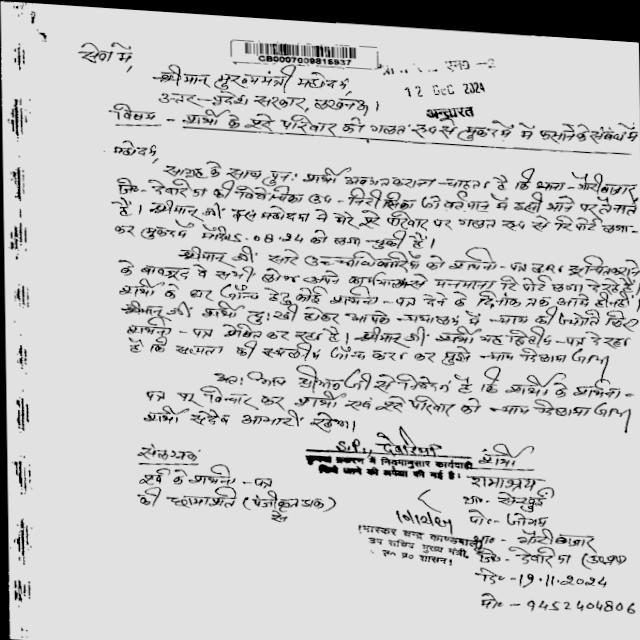barcode: (232, 39, 381, 71)
signnamestamp: (353, 483, 485, 574)
